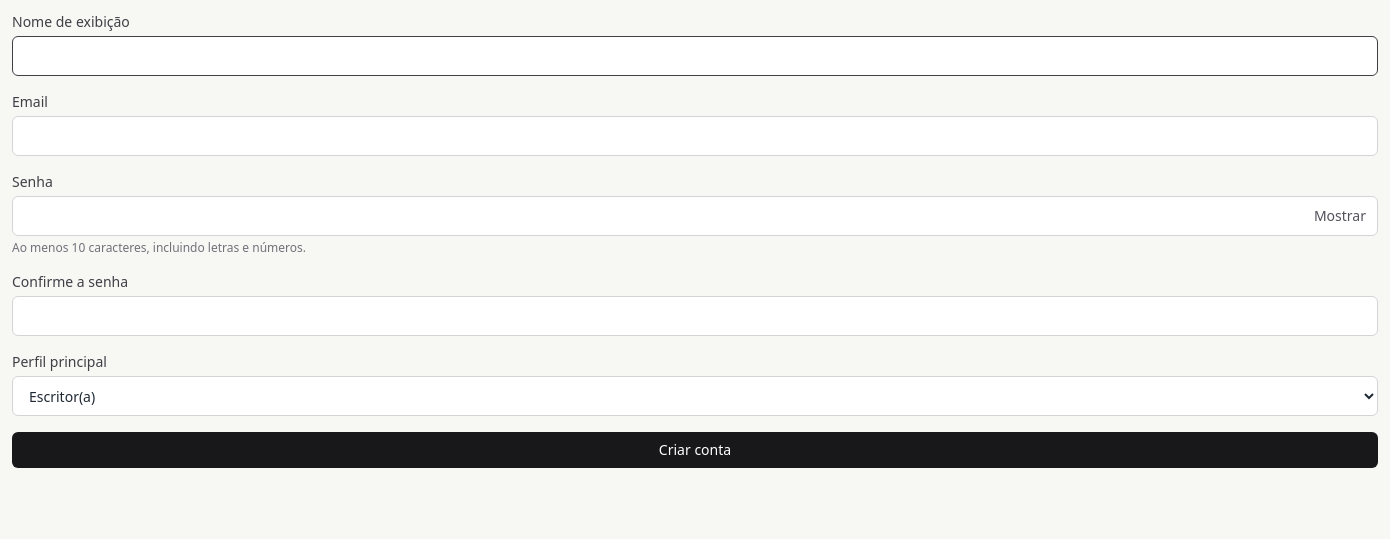
Test case: RegisterForm › recusa senha fora da política no cliente
Type "Nova Autora" into the field labelled "Nome de exibição" at (695,56), box [12, 36, 1378, 76]
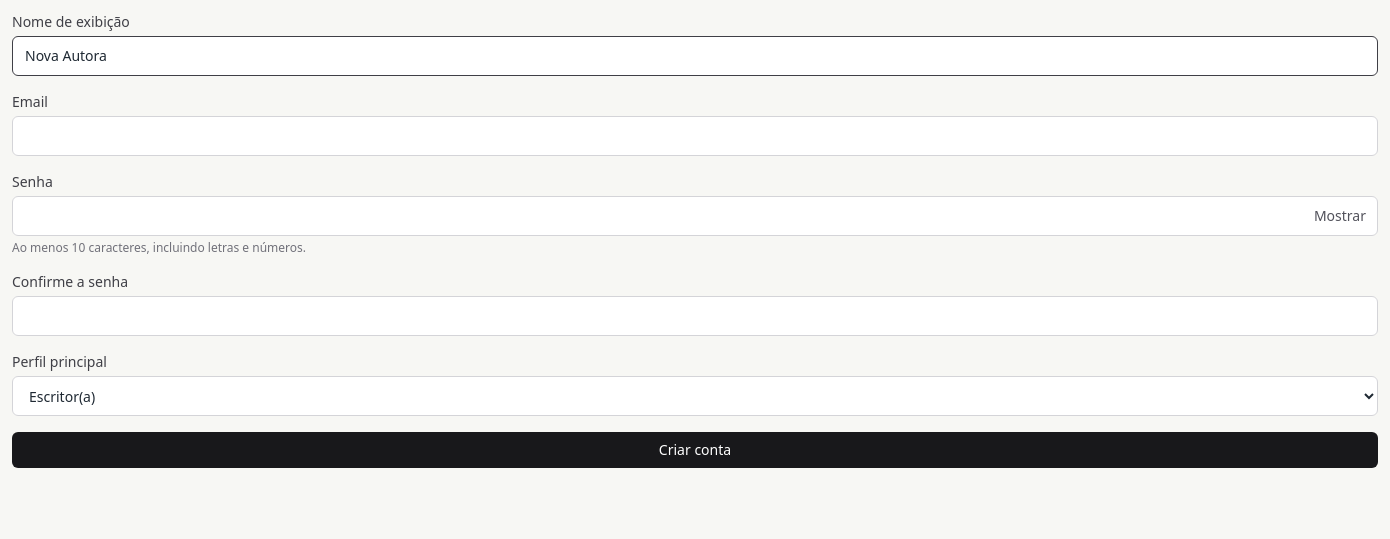
Type "nova@iwrite.local" into the field labelled "Email" at (695,136), box [12, 116, 1378, 156]
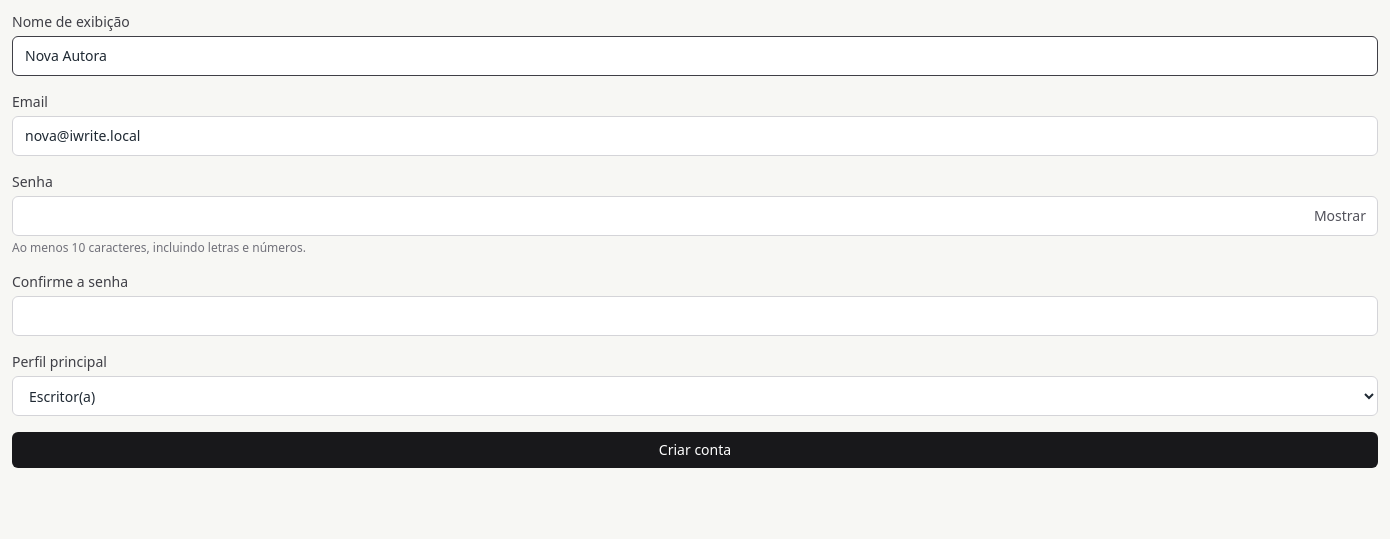
Type "curta1" into the password field labelled "Senha" at (695,216), box [12, 196, 1378, 236]
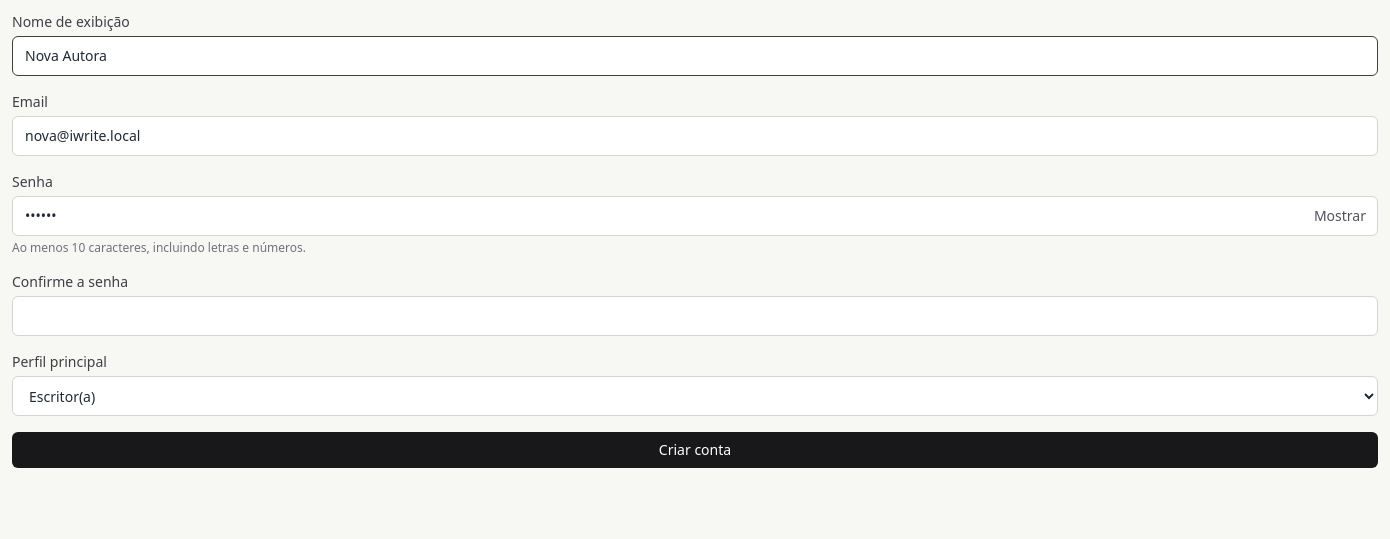
Type "curta1" into the password field labelled "Confirme a senha" at (695,316), box [12, 296, 1378, 336]
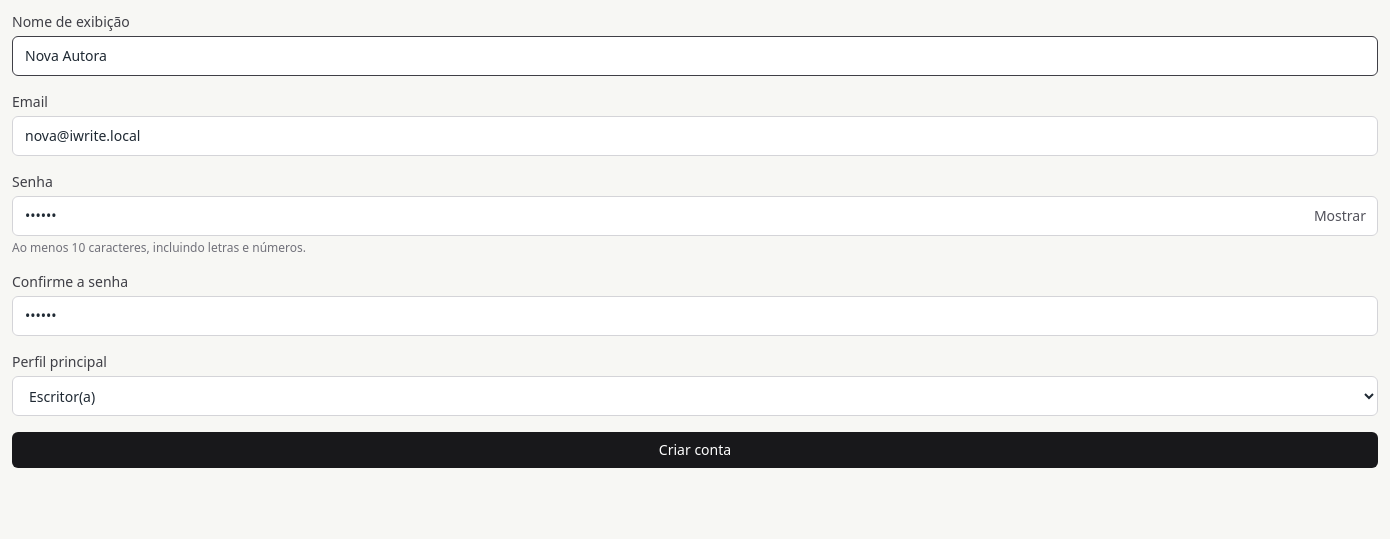
Click the button "Criar conta" at (695,450), box [12, 432, 1378, 468]
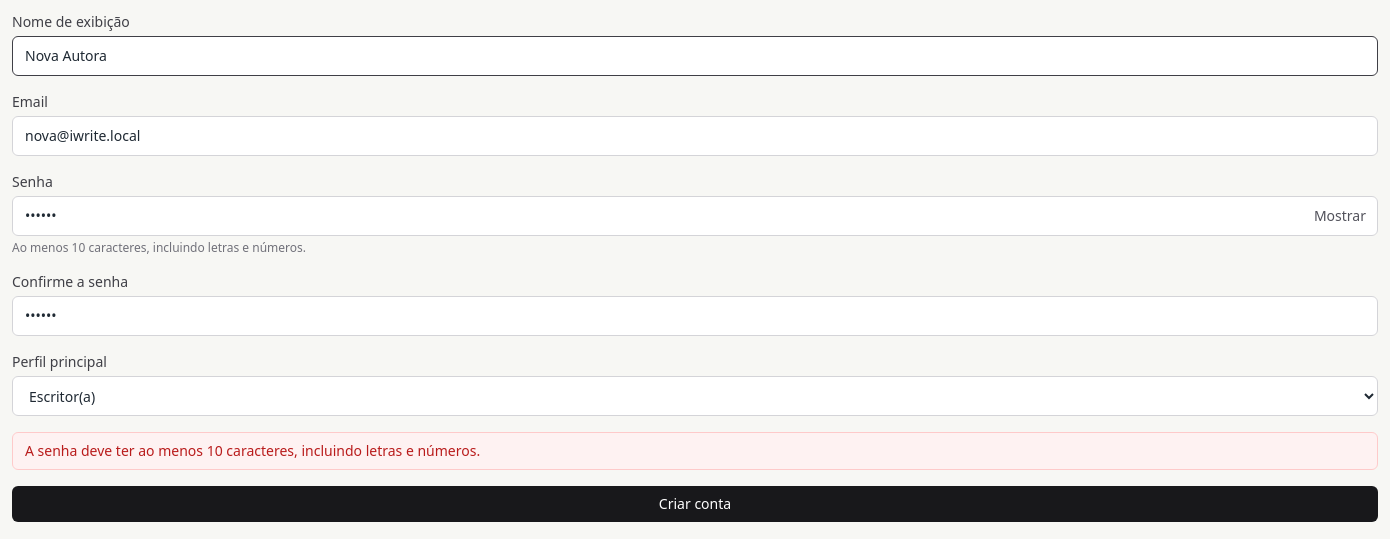
Expected: the message reads "A senha deve ter ao menos 10 caracteres, incluindo letras e números.", [25, 441, 480, 460]
